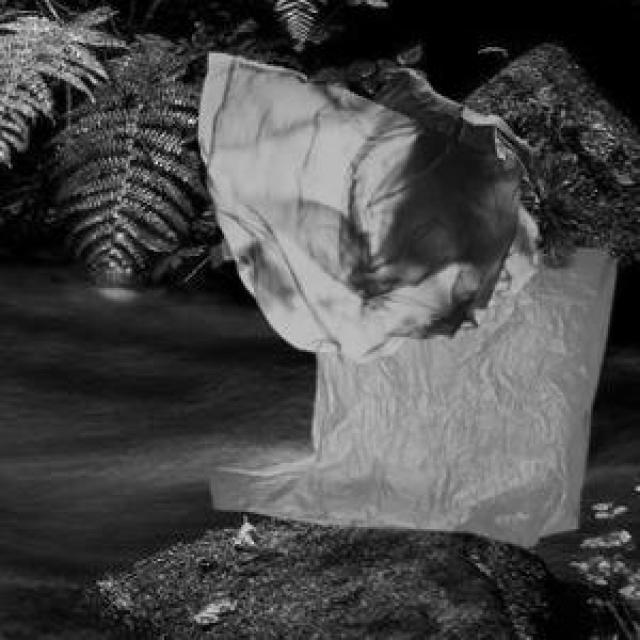miscellaneous trash: (368, 64, 572, 265)
